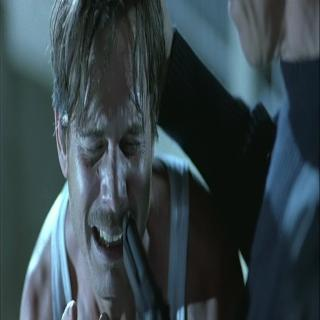gun: (105, 217, 173, 319)
